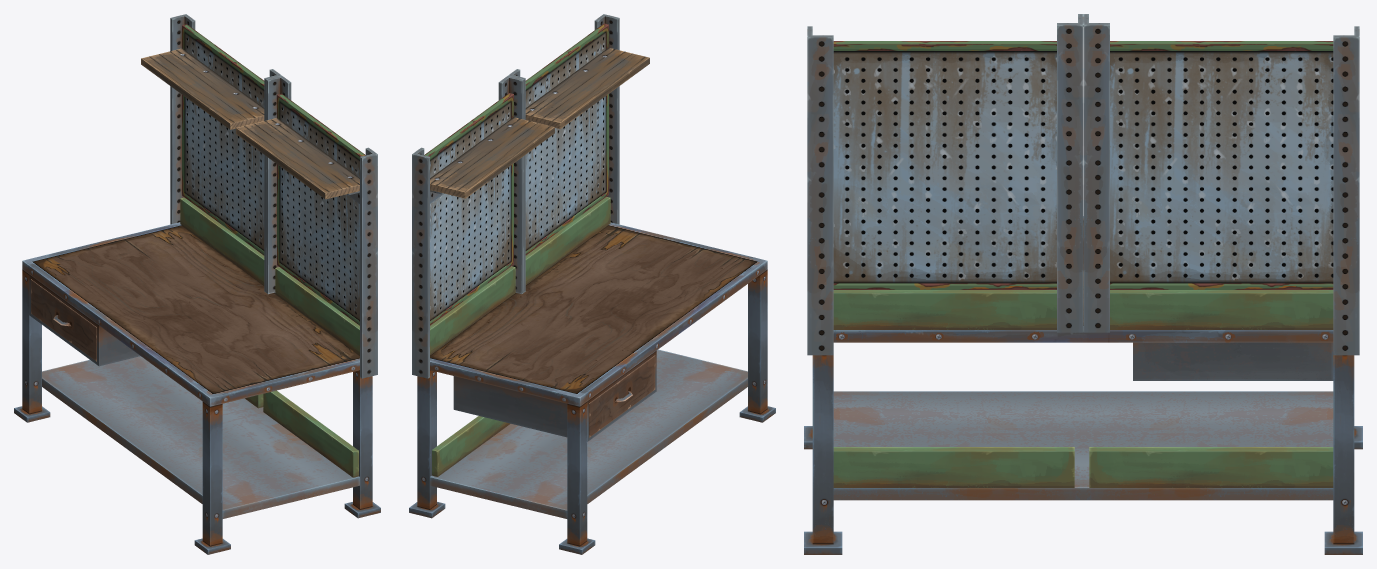
The model's file is workbench03.fbx.
3 renders of one model, left to right at view 1: azimuth 30°, elevation 25°; view 2: azimuth 150°, elevation 25°; view 3: azimuth 270°, elevation 25°, orthographic. The views are drawn at different scales.
Parts seen in each view (by area): view 1: workbench03, workbench03_drawer; view 2: workbench03, workbench03_drawer; view 3: workbench03.
Part boxes in pixels (x1,y1,x2,y2): workbench03: [14, 14, 380, 554]; workbench03_drawer: [31, 279, 96, 361]; workbench03: [409, 14, 775, 554]; workbench03_drawer: [589, 355, 655, 437]; workbench03: [804, 14, 1362, 554].
Bounding box in the file's own units: 108 × 215 × 206.
